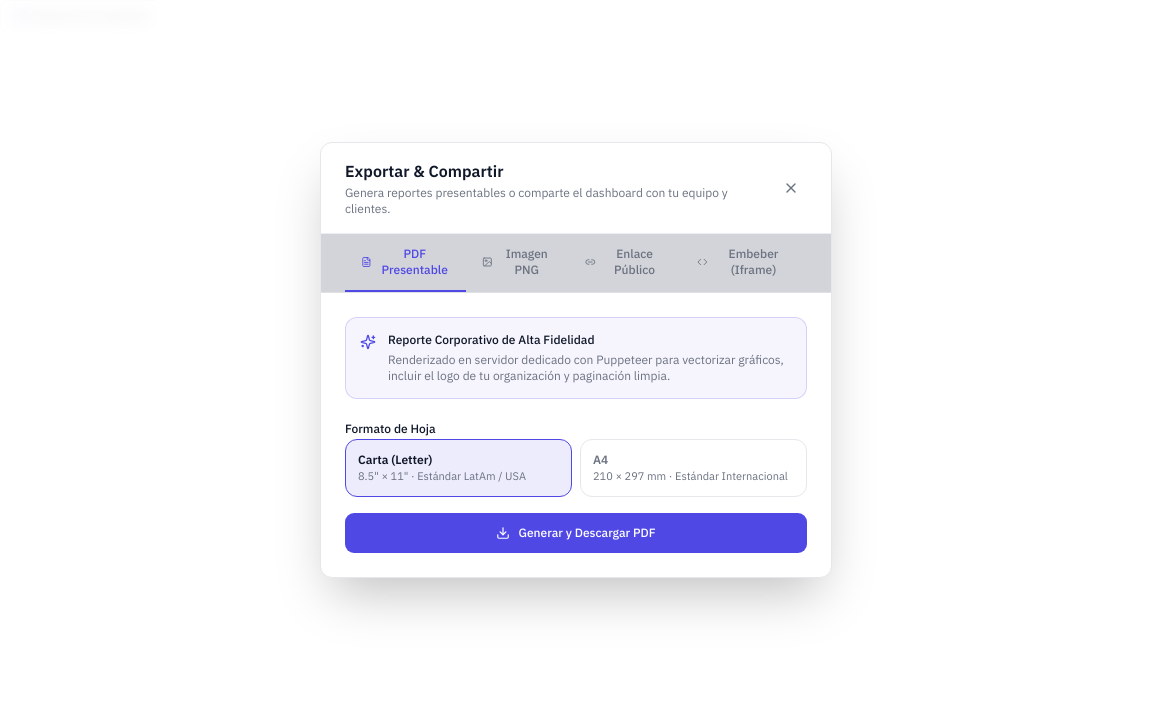
Test: ExportShareDialog › allows generating iframe embed snippet in the embed tab
Click the tab "Embeber (Iframe)" at (744, 263), box top-left (681, 234), bottom-right (807, 292)
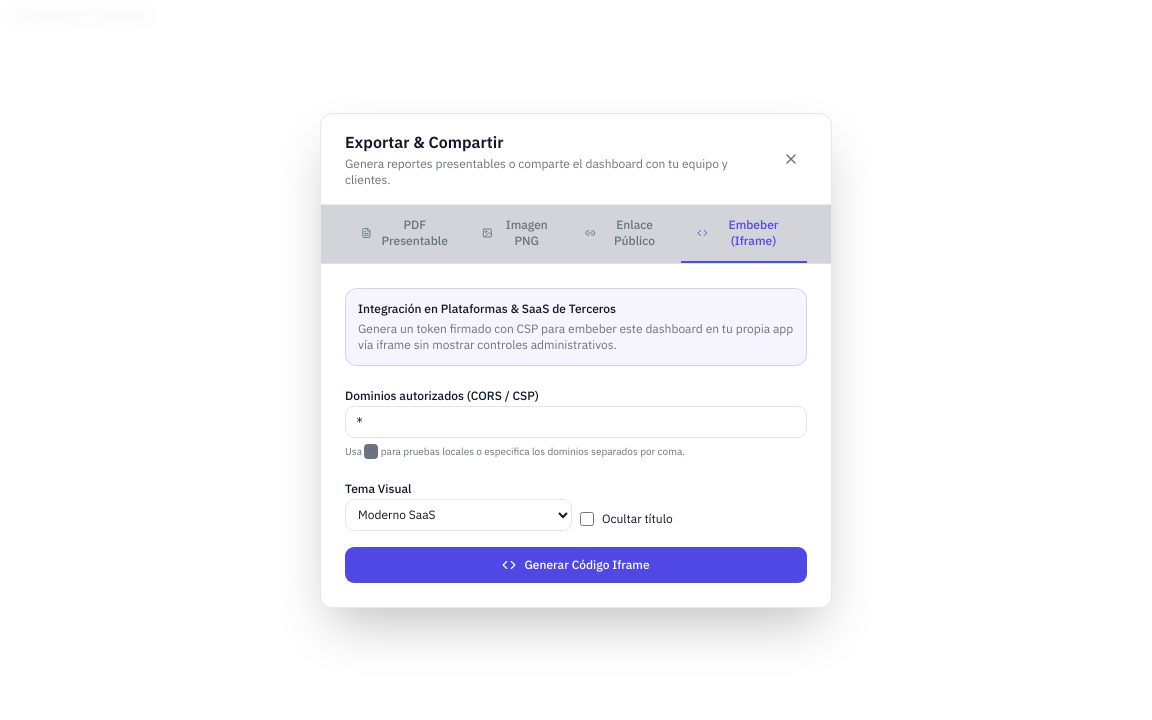
Now the button "Generar Código Iframe" is shown
Click the button "Generar Código Iframe" at (576, 564), box top-left (345, 546), bottom-right (807, 582)
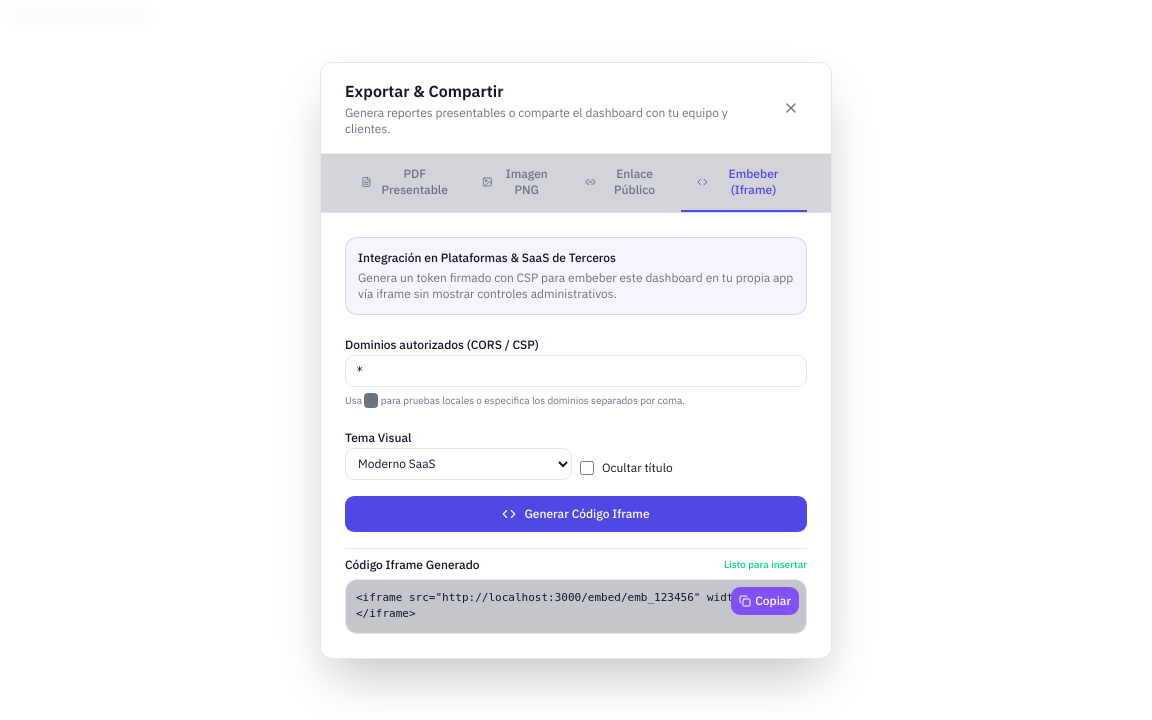
Now the text "<iframe" is shown, box top-left (356, 590), bottom-right (793, 620)
